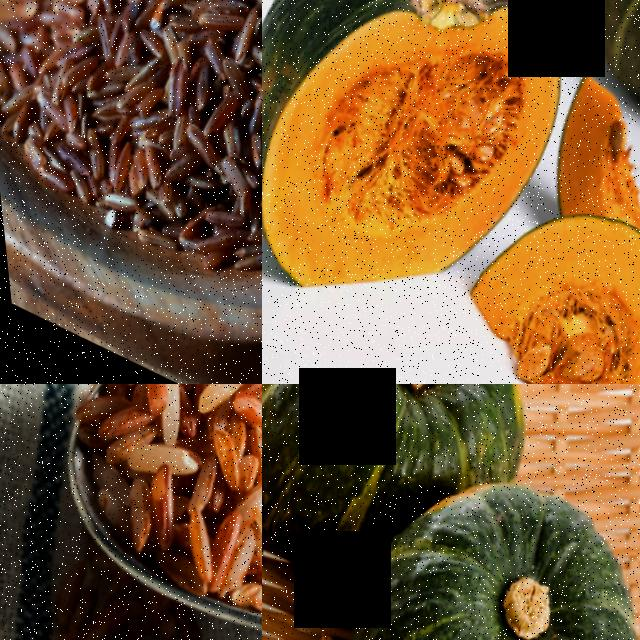pumpkin: (262, 0, 620, 372), (295, 431, 640, 640), (406, 162, 640, 384), (262, 384, 577, 517), (525, 62, 640, 276)
red rice: (0, 0, 262, 328), (30, 384, 262, 640)
